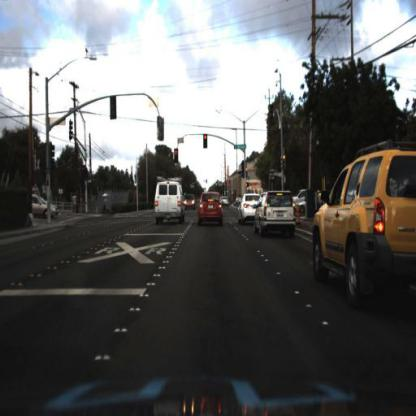car: (308, 146, 416, 307), (255, 186, 300, 239), (152, 174, 186, 225), (28, 187, 63, 224), (193, 192, 227, 228), (31, 193, 62, 224), (237, 196, 264, 225), (236, 189, 253, 227), (295, 198, 317, 219), (182, 195, 199, 217), (294, 190, 312, 204), (185, 195, 195, 211)
pedestrian: (314, 183, 327, 212)
trafficLight: (172, 146, 179, 162)
trafficLight-Red: (280, 151, 290, 175), (281, 150, 290, 169), (204, 133, 210, 155), (245, 165, 250, 183)
trafficLight-RedLeft: (80, 163, 90, 186)
